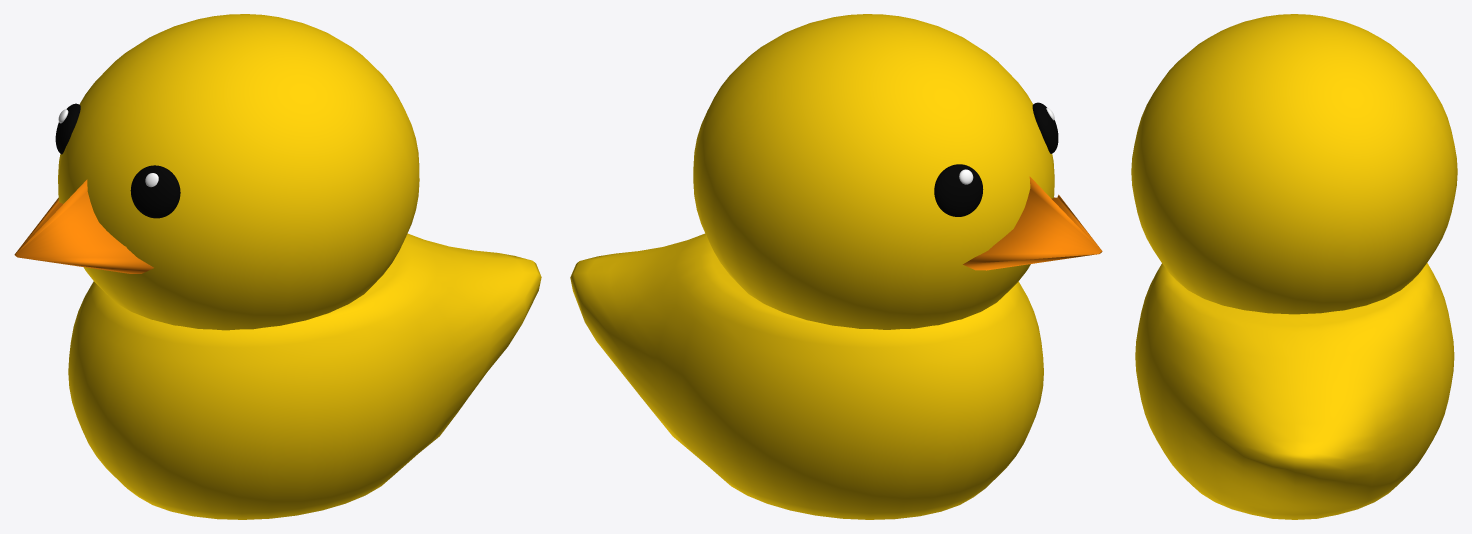
The model's file is rubberduckmodel.glb.
3 views of the same model, side by side, from view 1: azimuth 30°, elevation 25°; view 2: azimuth 150°, elevation 25°; view 3: azimuth 270°, elevation 25° (orthographic). The views are drawn at different scales.
Visible parts, largest first — view 1: head, body, 부리리, eyeleft, eyeright; view 2: head, body, 부리리, eyeright, eyeleft; view 3: head, body.
Boxes of the visible parts, x1=… form: head: x1=58, y1=14, x2=419, y2=330; body: x1=68, y1=233, x2=541, y2=519; 부리리: x1=14, y1=179, x2=153, y2=273; eyeleft: x1=130, y1=165, x2=180, y2=218; eyeright: x1=55, y1=103, x2=80, y2=154; head: x1=693, y1=14, x2=1054, y2=329; body: x1=570, y1=233, x2=1043, y2=519; 부리리: x1=963, y1=176, x2=1102, y2=270; eyeright: x1=934, y1=164, x2=983, y2=216; eyeleft: x1=1032, y1=102, x2=1058, y2=153; head: x1=1131, y1=14, x2=1457, y2=314; body: x1=1135, y1=263, x2=1454, y2=519.
Bounding box in the file's own units: 1.25 × 1.03 × 0.7127.
